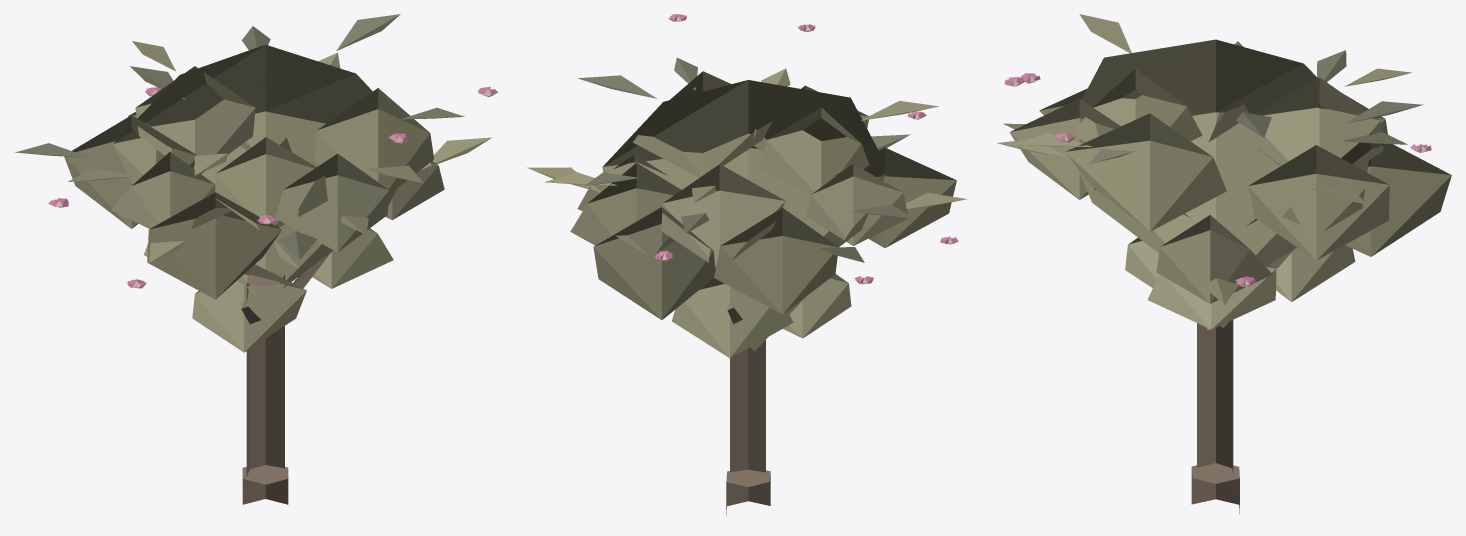
The model's file is shu.xiangzhang@flowering__winter.glb.
3 views of the same model, side by side, from view 1: azimuth 30°, elevation 25°; view 2: azimuth 150°, elevation 25°; view 3: azimuth 270°, elevation 25° (orthographic). The views are drawn at different scales.
Parts seen in each view (by area): view 1: shu.xiangzhang@flowering__winter; view 2: shu.xiangzhang@flowering__winter; view 3: shu.xiangzhang@flowering__winter.
Part boxes in pixels (box(x1,y1,x2,y2)): shu.xiangzhang@flowering__winter: box(15, 14, 497, 504); shu.xiangzhang@flowering__winter: box(527, 14, 967, 515); shu.xiangzhang@flowering__winter: box(997, 14, 1451, 513).
Size of the model in its own units: 17.03 by 17.47 by 15.63.
